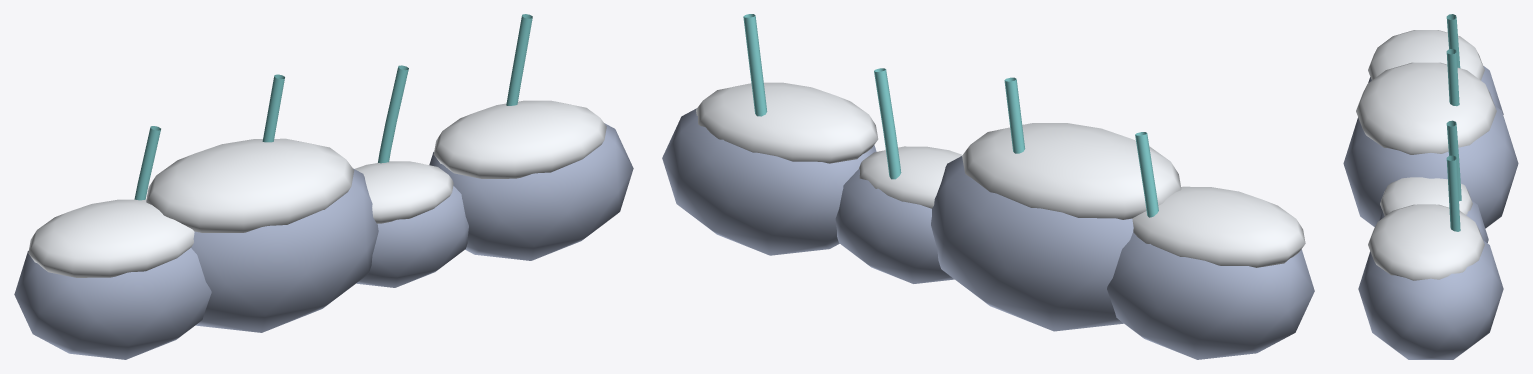
Rendered from winter_shore_1.glb.
The picture shows the model from 3 angles, left to right: view 1: azimuth 30°, elevation 25°; view 2: azimuth 150°, elevation 25°; view 3: azimuth 270°, elevation 25°; orthographic projection. The views are drawn at different scales.
Parts seen in each view (by area): view 1: Stone_1.001, SnowCap_1.005, Stone_0.001, Stone_3, SnowCap_3.004, SnowCap_0.005, Stone_2.001, SnowCap_2.005, WinterReed_2.001, WinterReed_3.001, WinterReed_0.001, WinterReed_1.001; view 2: Stone_1.001, Stone_0.001, Stone_3, SnowCap_1.005, SnowCap_3.004, SnowCap_0.005, Stone_2.001, SnowCap_2.005, WinterReed_2.001, WinterReed_3.001, WinterReed_0.001, WinterReed_1.001; view 3: Stone_3, SnowCap_1.005, Stone_1.001, SnowCap_3.004, SnowCap_0.005, SnowCap_2.005, WinterReed_3.001, WinterReed_1.001, WinterReed_2.001, WinterReed_0.001, Stone_2.001, Stone_0.001.
Part boxes in pixels (bbox=[...]): Stone_1.001: bbox=[191, 168, 378, 332]; SnowCap_1.005: bbox=[146, 138, 354, 232]; Stone_0.001: bbox=[14, 248, 211, 359]; Stone_3: bbox=[429, 123, 633, 260]; SnowCap_3.004: bbox=[433, 100, 606, 178]; SnowCap_0.005: bbox=[28, 199, 194, 277]; Stone_2.001: bbox=[356, 186, 468, 287]; SnowCap_2.005: bbox=[355, 161, 453, 223]; WinterReed_2.001: bbox=[378, 65, 408, 163]; WinterReed_3.001: bbox=[506, 14, 532, 105]; WinterReed_0.001: bbox=[134, 126, 160, 200]; WinterReed_1.001: bbox=[262, 74, 284, 142]; Stone_1.001: bbox=[931, 156, 1133, 331]; Stone_0.001: bbox=[1107, 232, 1314, 359]; Stone_3: bbox=[662, 108, 876, 255]; SnowCap_1.005: bbox=[962, 123, 1181, 219]; SnowCap_3.004: bbox=[696, 82, 878, 163]; SnowCap_0.005: bbox=[1132, 186, 1305, 267]; Stone_2.001: bbox=[835, 169, 954, 283]; SnowCap_2.005: bbox=[859, 146, 962, 208]; WinterReed_2.001: bbox=[874, 68, 901, 179]; WinterReed_3.001: bbox=[743, 14, 767, 116]; WinterReed_0.001: bbox=[1135, 132, 1158, 217]; WinterReed_1.001: bbox=[1004, 77, 1025, 153]; Stone_3: bbox=[1358, 240, 1503, 359]; SnowCap_1.005: bbox=[1356, 62, 1496, 154]; Stone_1.001: bbox=[1343, 106, 1518, 228]; SnowCap_3.004: bbox=[1368, 204, 1484, 280]; SnowCap_0.005: bbox=[1368, 30, 1484, 80]; SnowCap_2.005: bbox=[1380, 177, 1472, 216]; WinterReed_3.001: bbox=[1446, 155, 1460, 231]; WinterReed_1.001: bbox=[1446, 49, 1459, 106]; WinterReed_2.001: bbox=[1446, 120, 1461, 201]; WinterReed_0.001: bbox=[1446, 14, 1460, 67]; Stone_2.001: bbox=[1379, 201, 1488, 242]; Stone_0.001: bbox=[1368, 66, 1503, 114].
Size of the model in its own units: 5.27 by 1.95 by 1.53.
